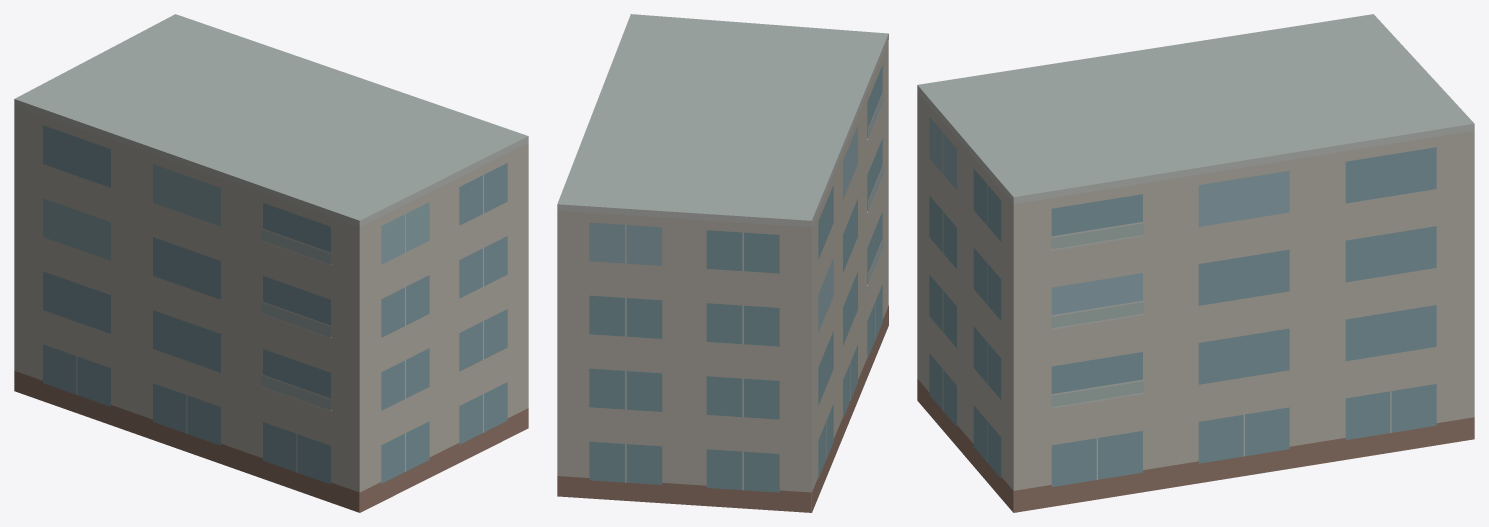
The model's file is survey-upis-32990293.glb.
The picture shows the model from 3 angles, left to right: view 1: azimuth 30°, elevation 25°; view 2: azimuth 150°, elevation 25°; view 3: azimuth 270°, elevation 25°; orthographic projection. The views are drawn at different scales.
Visible parts, largest first — view 1: survey-upis-32990293.tmp; view 2: survey-upis-32990293.tmp; view 3: survey-upis-32990293.tmp.
Boxes of the visible parts, x1=… form: survey-upis-32990293.tmp: x1=14, y1=14, x2=528, y2=512; survey-upis-32990293.tmp: x1=557, y1=14, x2=888, y2=512; survey-upis-32990293.tmp: x1=917, y1=14, x2=1474, y2=512.
Size of the model in its own units: 13.96 by 11.2 by 17.93.
